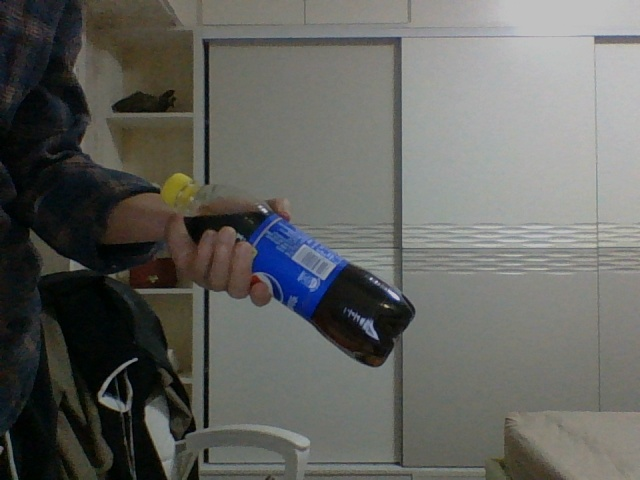Cola: (162, 171, 416, 366)
